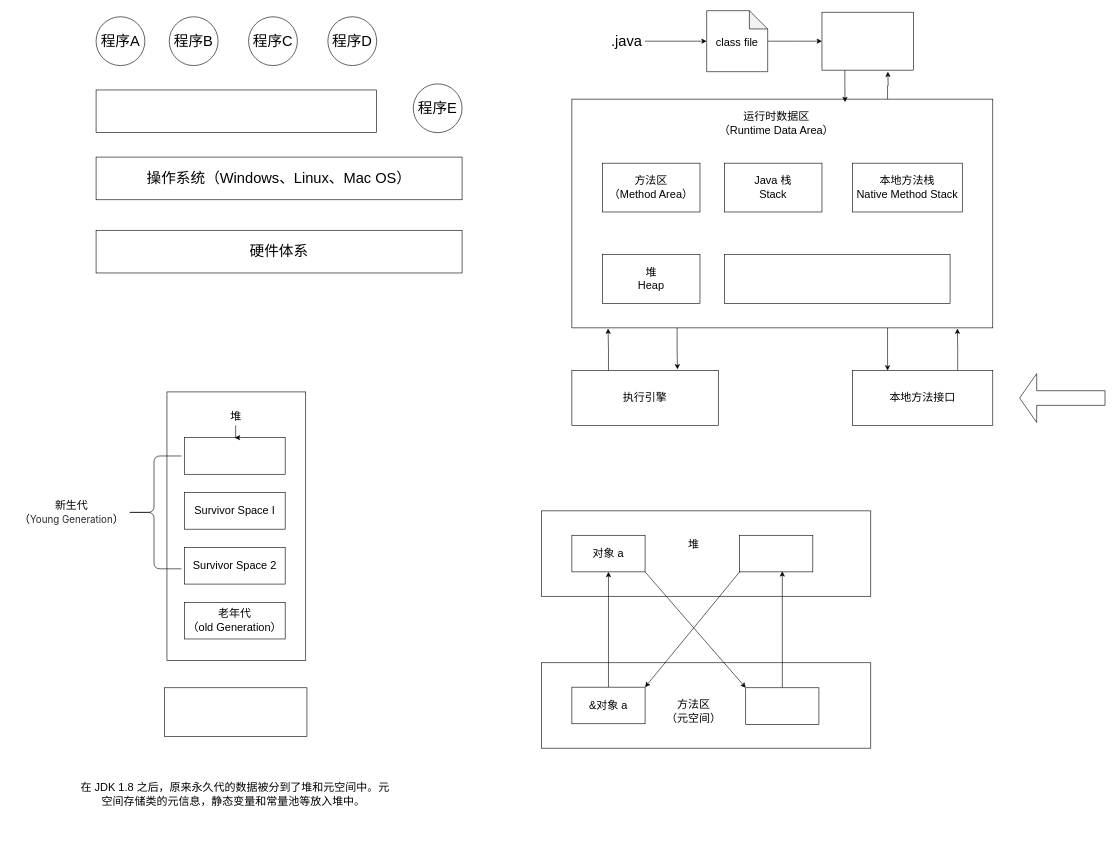
Some shapes in this 1116 by 845 pixel diagram are drawn without their labels. Each missing label, with the box of its shape:
&对象 b: (745, 687, 819, 724)
Eden Space: (184, 437, 285, 474)
JRE -- JVM: (95, 89, 377, 133)
对象 b: (739, 535, 813, 572)
本地方法区 （1.8之前也叫永久代）: (164, 687, 307, 737)
本地方法库: (1019, 373, 1105, 422)
程序计数器: (724, 254, 950, 303)
类装载器 Class Loader: (821, 12, 913, 70)
